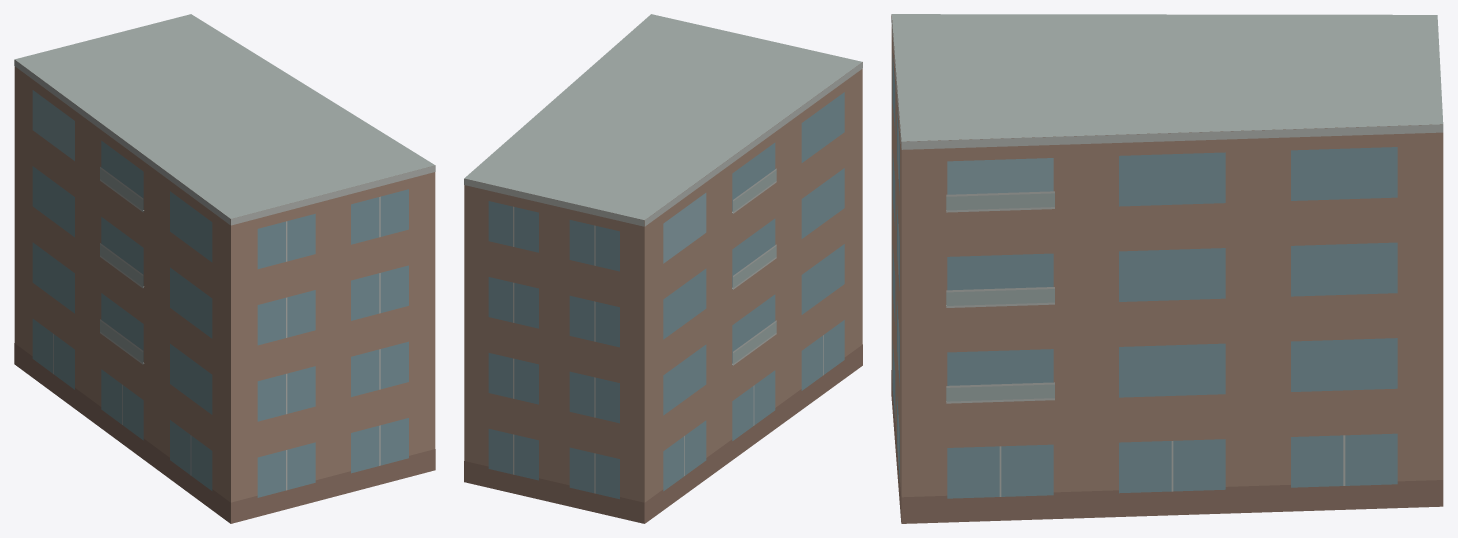
File: survey-upis-32919826.glb
The picture shows the model from 3 angles, left to right: view 1: azimuth 30°, elevation 25°; view 2: azimuth 150°, elevation 25°; view 3: azimuth 270°, elevation 25°; orthographic projection. The views are drawn at different scales.
Visible parts, largest first — view 1: survey-upis-32919826.tmp; view 2: survey-upis-32919826.tmp; view 3: survey-upis-32919826.tmp.
Part boxes in pixels (x1,y1,x2,y2): survey-upis-32919826.tmp: (14,14,435,523); survey-upis-32919826.tmp: (464,14,862,523); survey-upis-32919826.tmp: (891,14,1443,523).
Size of the model in its own units: 8.11 by 11.3 by 14.79.
